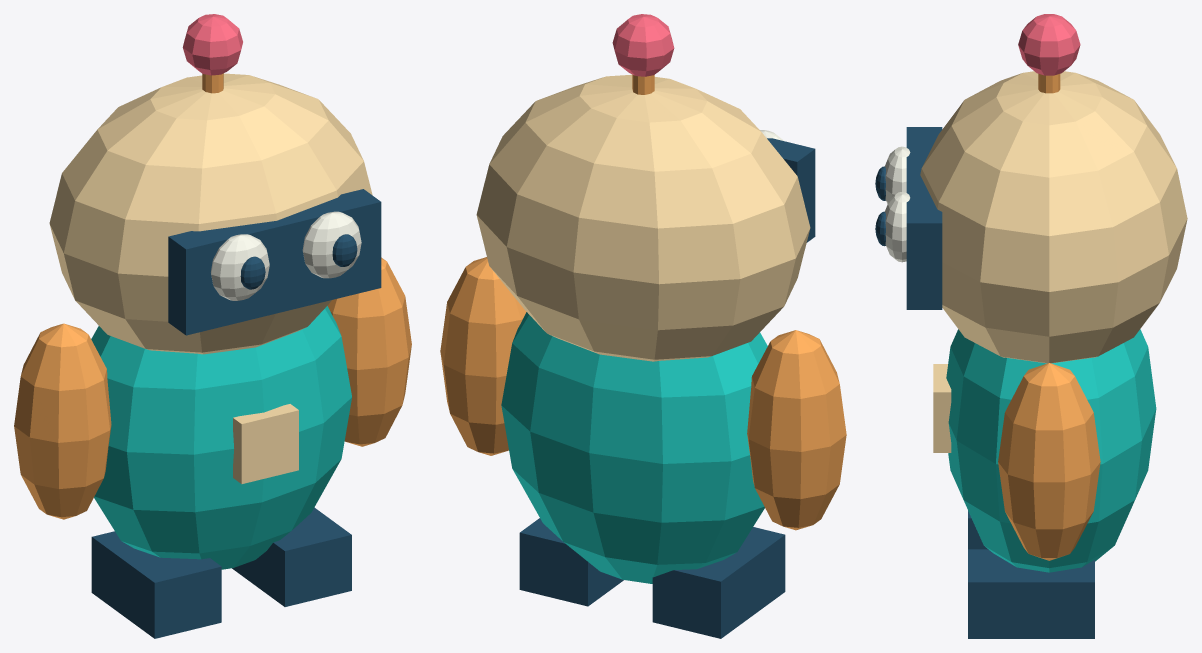
File: retro-scout.glb
3 renders of one model, left to right at view 1: azimuth 30°, elevation 25°; view 2: azimuth 150°, elevation 25°; view 3: azimuth 270°, elevation 25°, orthographic. The views are drawn at different scales.
Parts seen in each view (by area): view 1: Helmet, Body, Faceplate, ArmLeft, ArmRight, FootLeft, FootRight, ChestBadge, AntennaTip, EyeRight, EyeLeft, PupilLeft (+1 smaller); view 2: Helmet, Body, ArmLeft, ArmRight, FootLeft, FootRight, AntennaTip, Faceplate; view 3: Helmet, Body, ArmRight, FootRight, Faceplate, AntennaTip, ChestBadge, EyeRight, EyeLeft.
Part boxes in pixels (x1,y1,x2,y2): Helmet: (49,73,372,354); Body: (91,306,351,569); Faceplate: (168,189,381,335); ArmLeft: (14,323,111,519); ArmRight: (327,257,411,446); FootLeft: (91,531,221,638); FootRight: (232,507,351,606); ChestBadge: (233,404,298,483); AntennaTip: (182,14,242,75); EyeRight: (302,211,361,278); EyeLeft: (211,234,269,300); PupilLeft: (240,256,265,289); Helmet: (476,74,810,361); Body: (501,312,767,583); ArmLeft: (747,330,846,530); ArmRight: (440,257,526,455); FootLeft: (652,527,785,638); FootRight: (519,518,623,606); AntennaTip: (612,14,674,76); Faceplate: (767,138,815,242); Helmet: (920,71,1187,363); Body: (946,329,1156,572); ArmRight: (998,363,1100,560); FootRight: (968,549,1094,638); Faceplate: (906,127,942,309); AntennaTip: (1018,14,1080,75); ChestBadge: (933,364,951,452); EyeRight: (884,192,910,262); EyeLeft: (885,146,910,203).
Size of the model in its own units: 2 by 2.84 by 1.4.
